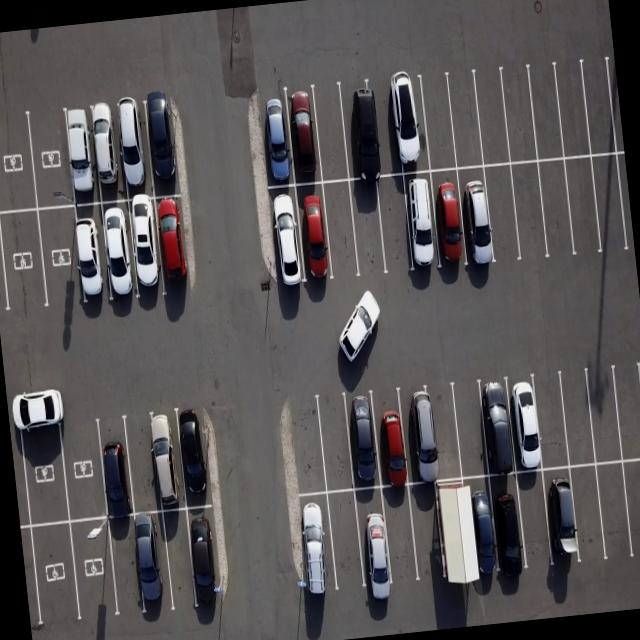car: (449, 476, 501, 589), (68, 516, 120, 622), (292, 489, 340, 601), (350, 481, 397, 592), (484, 469, 532, 577), (336, 77, 384, 179), (540, 461, 586, 567), (130, 512, 176, 618), (186, 505, 232, 611), (152, 192, 198, 296), (67, 200, 110, 310), (500, 376, 548, 474), (400, 384, 446, 486), (175, 407, 221, 508), (368, 390, 414, 491), (98, 195, 141, 302), (93, 418, 137, 522), (425, 166, 468, 272), (341, 392, 386, 492), (124, 196, 166, 302), (144, 411, 188, 512), (295, 180, 337, 285), (401, 170, 443, 274), (456, 164, 498, 268), (284, 84, 326, 188), (476, 378, 521, 475), (268, 184, 308, 291), (389, 77, 432, 176), (144, 97, 184, 198), (113, 100, 152, 201), (62, 104, 100, 206), (90, 103, 128, 202), (260, 89, 297, 189)
free: (17, 408, 70, 528), (58, 412, 110, 522), (26, 520, 78, 627), (36, 203, 86, 314), (324, 488, 372, 600), (122, 412, 174, 515), (428, 478, 476, 587), (509, 468, 556, 577), (562, 462, 610, 568), (376, 483, 422, 592), (0, 208, 45, 318), (27, 106, 75, 209), (588, 460, 634, 566), (588, 150, 632, 258), (558, 153, 601, 259), (102, 516, 146, 618), (481, 162, 524, 266), (284, 396, 328, 497), (404, 482, 447, 585), (581, 367, 625, 467), (311, 80, 354, 182), (510, 159, 552, 263), (556, 367, 600, 466), (535, 157, 576, 261), (375, 174, 417, 274), (314, 392, 356, 492), (580, 58, 622, 158), (321, 181, 362, 283), (532, 373, 575, 470), (158, 506, 198, 610), (448, 381, 490, 480), (549, 59, 591, 158), (500, 65, 542, 163), (473, 70, 514, 170), (525, 64, 567, 161), (346, 174, 386, 274), (424, 384, 465, 481), (445, 72, 486, 168), (416, 76, 456, 174), (0, 106, 35, 213), (369, 78, 406, 176), (611, 361, 640, 462), (620, 458, 640, 563)
